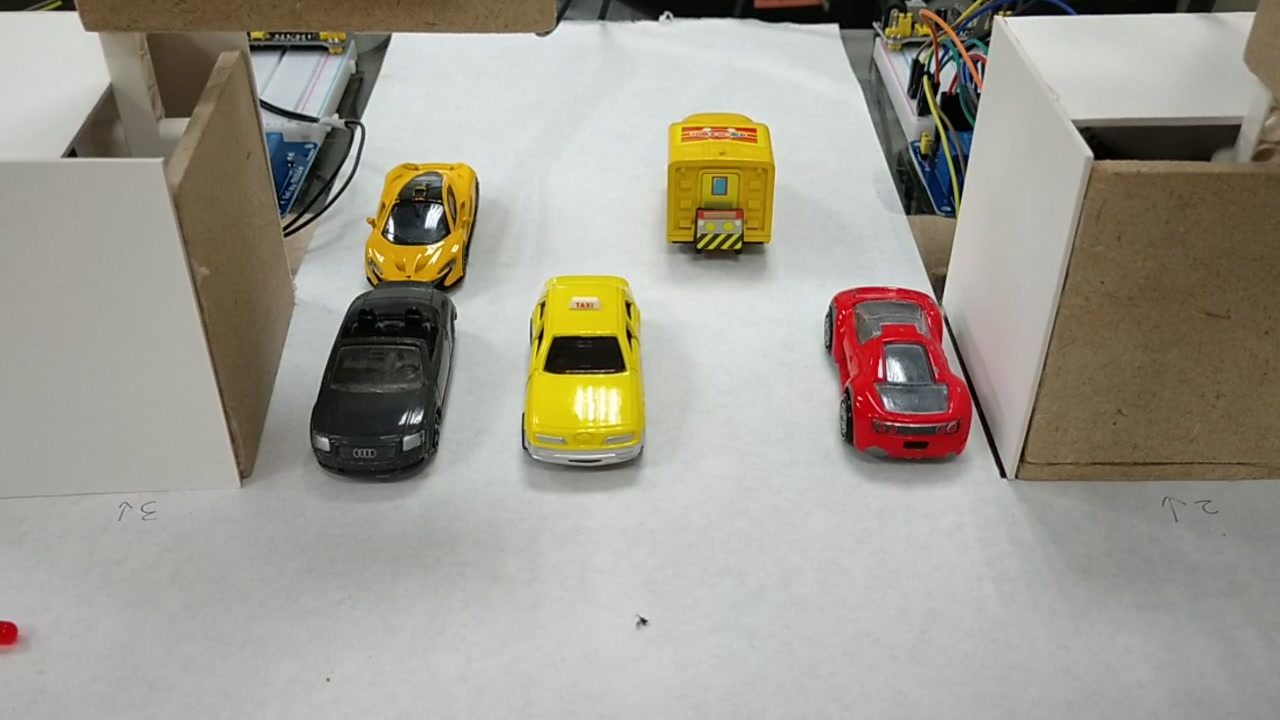car: (825, 279, 977, 464), (308, 281, 441, 485), (519, 289, 653, 467), (359, 156, 480, 288)
